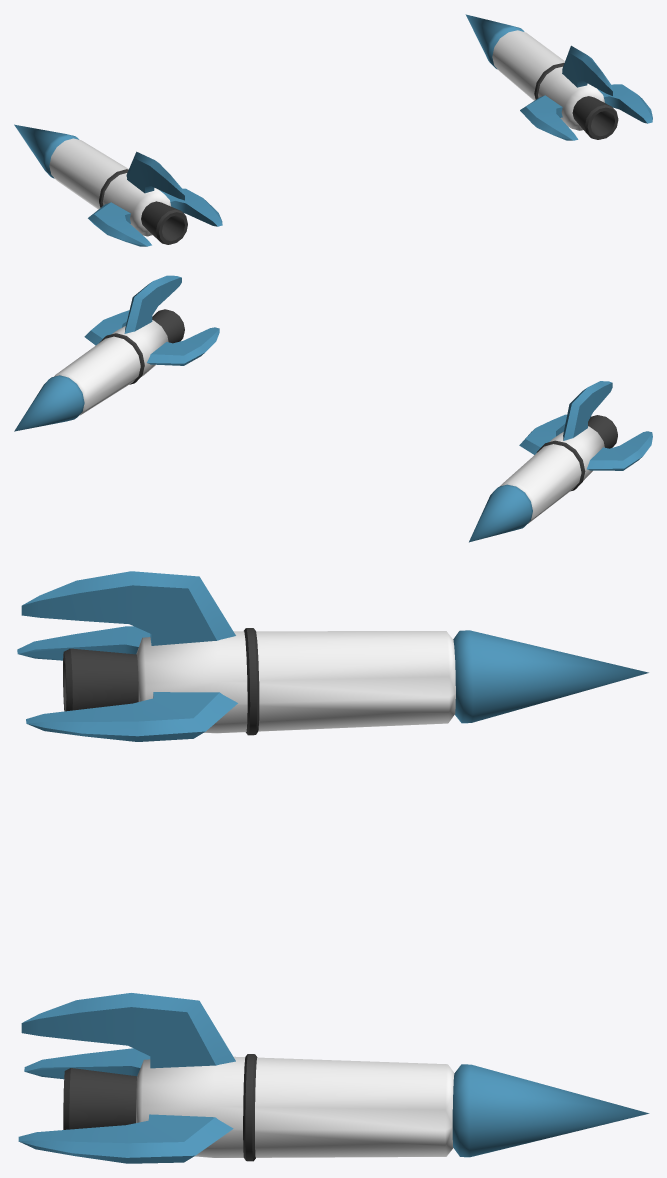
The model's file is Rocket level 1.fbx.
3 views of the same model, one above another, from view 1: azimuth 30°, elevation 25°; view 2: azimuth 150°, elevation 25°; view 3: azimuth 270°, elevation 25° (orthographic). The views are drawn at different scales.
Visible parts, largest first — view 1: rocket1 base left, rocket1 base right, Rocket1 flaps left, Rocket1 flaps right; view 2: rocket1 base right, rocket1 base left, Rocket1 flaps right, Rocket1 flaps left; view 3: rocket1 base right, rocket1 base left, Rocket1 flaps left, Rocket1 flaps right.
Boxes of the visible parts, x1=… form: rocket1 base left: x1=14, y1=124, x2=187, y2=244; rocket1 base right: x1=465, y1=14, x2=618, y2=139; Rocket1 flaps left: x1=88, y1=151, x2=222, y2=246; Rocket1 flaps right: x1=520, y1=45, x2=652, y2=140; rocket1 base right: x1=14, y1=309, x2=184, y2=431; rocket1 base left: x1=469, y1=415, x2=617, y2=542; Rocket1 flaps right: x1=84, y1=275, x2=219, y2=365; Rocket1 flaps left: x1=519, y1=381, x2=652, y2=470; rocket1 base right: x1=63, y1=1054, x2=649, y2=1161; rocket1 base left: x1=63, y1=628, x2=648, y2=735; Rocket1 flaps left: x1=17, y1=571, x2=237, y2=741; Rocket1 flaps right: x1=18, y1=993, x2=235, y2=1163.
Bounding box in the file's own units: 5.47 × 0.7808 × 2.78.
Materials: 1 (1 with a texture image).
